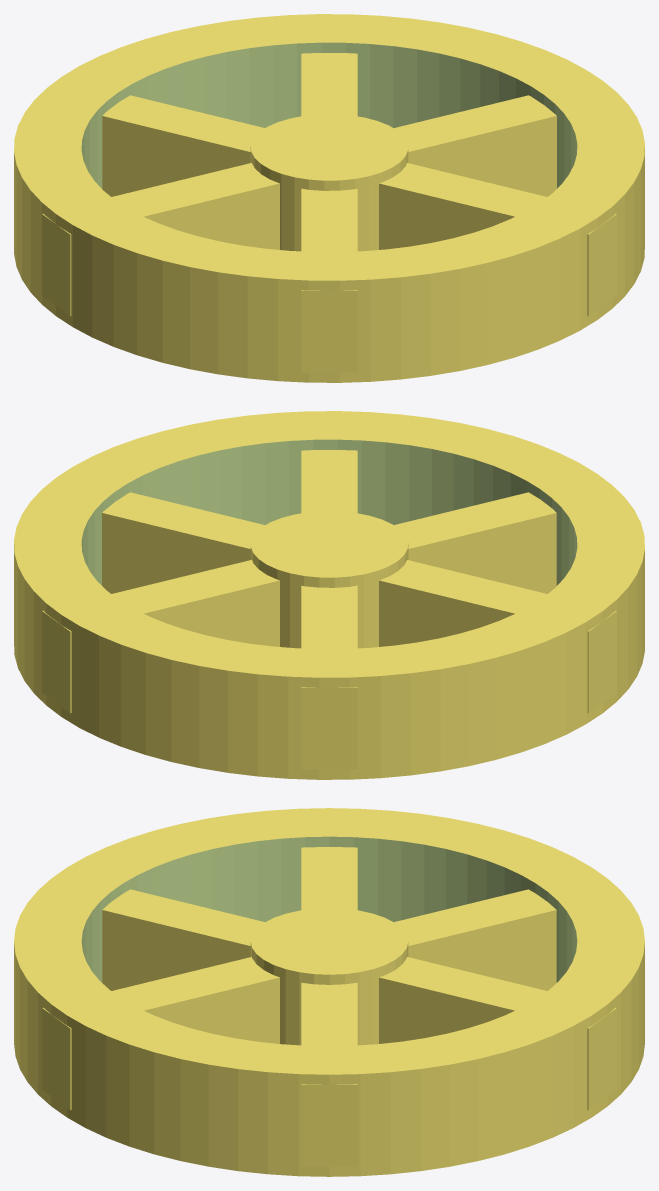
File: wheel.glb
The picture shows the model from 3 angles, top to bottom: view 1: azimuth 30°, elevation 25°; view 2: azimuth 150°, elevation 25°; view 3: azimuth 270°, elevation 25°; orthographic projection.
Size of the model in its own units: 28 by 5 by 28.
